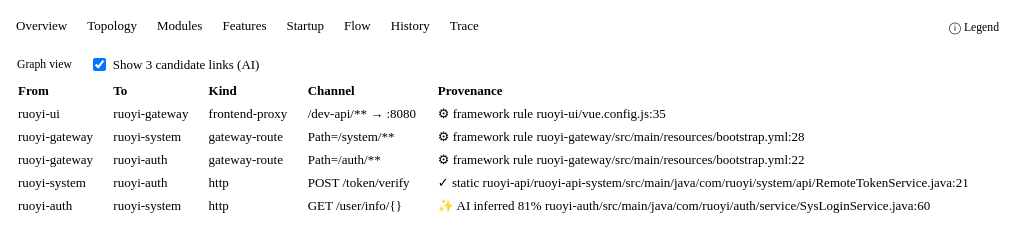
partial › topology: candidate AI links toggle hides ai-inferred links
This screenshot has width=1016, height=234.
Expected: the text "GET /user/info/{}" is shown, [300, 194, 430, 218]
Click the checkbox labelled "Show 3 candidate links (AI)".
click(99, 64)  # box [93, 58, 106, 71]
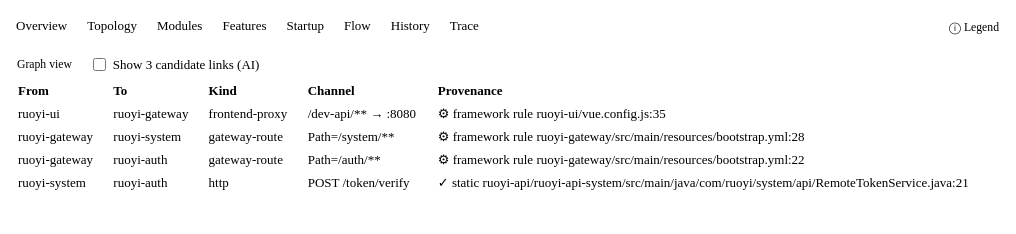
Expected: the text "GET /user/info/{}" is gone
